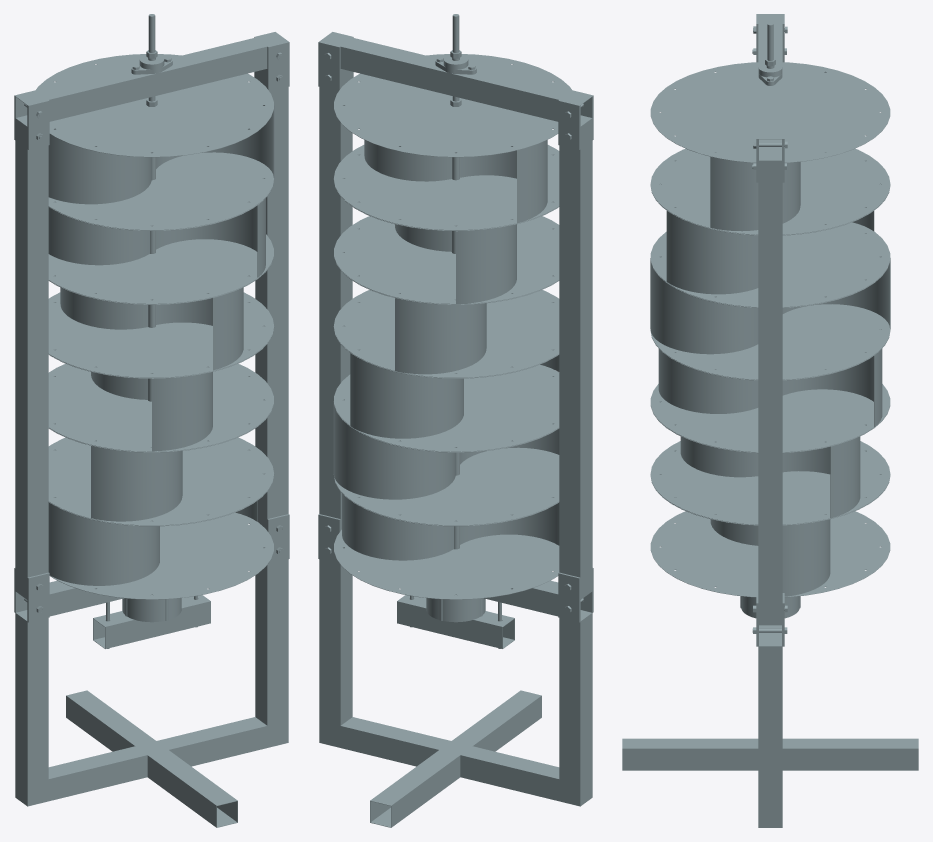
The model's file is Савониус многоэлементный.FBX.
3 renders of one model, left to right at view 1: azimuth 30°, elevation 25°; view 2: azimuth 150°, elevation 25°; view 3: azimuth 270°, elevation 25°, orthographic.
Parts seen in each view (by area): view 1: C0DA3F6DC30D1841D78857DBE5FFBBCAE4F21C9B|:|B8A4396250C5687B1 (×7), 87608CF17BA5F838D6425924F474B96C1249B9B9|:|B8A4396250C5687B1 (×13), 62E11468440A4AA8D424D3E9D94E90A74CFD7514|:|C906BBC760572095F, 95964264239DB902585279D215E8488E0D30D7ED|:|B8A4396250C5687B1 (×2), 62E11468440A4AA8D424D3E9D94E90A74CFD7514|:|62A847F87F404A138, 62E11468440A4AA8D424D3E9D94E90A74CFD7514|:|B8A4396250C5687B1, 106607472D9B93278FBDF17043DF52F506BEC7B4|:|B8A4396250C5687B1 (×4), 62E11468440A4AA8D424D3E9D94E90A74CFD7514|:|7325FF14D543F8139, 81A1F676CC38BD6EFCC5FBA0071F4175BFBD2D6C|:|B8A4396250C5687B1, 0CB1673DC6915E34E33ADCB3ED8ADB170B950B73|:|B8A4396250C5687B1; view 2: C0DA3F6DC30D1841D78857DBE5FFBBCAE4F21C9B|:|B8A4396250C5687B1 (×7), 87608CF17BA5F838D6425924F474B96C1249B9B9|:|B8A4396250C5687B1 (×16), 62E11468440A4AA8D424D3E9D94E90A74CFD7514|:|C906BBC760572095F, 95964264239DB902585279D215E8488E0D30D7ED|:|B8A4396250C5687B1 (×2), 62E11468440A4AA8D424D3E9D94E90A74CFD7514|:|62A847F87F404A138, 62E11468440A4AA8D424D3E9D94E90A74CFD7514|:|B8A4396250C5687B1, 106607472D9B93278FBDF17043DF52F506BEC7B4|:|B8A4396250C5687B1 (×4), 62E11468440A4AA8D424D3E9D94E90A74CFD7514|:|7325FF14D543F8139, 81A1F676CC38BD6EFCC5FBA0071F4175BFBD2D6C|:|B8A4396250C5687B1, 0CB1673DC6915E34E33ADCB3ED8ADB170B950B73|:|B8A4396250C5687B1; view 3: C0DA3F6DC30D1841D78857DBE5FFBBCAE4F21C9B|:|B8A4396250C5687B1 (×7), 87608CF17BA5F838D6425924F474B96C1249B9B9|:|B8A4396250C5687B1 (×14), 62E11468440A4AA8D424D3E9D94E90A74CFD7514|:|C906BBC760572095F, 95964264239DB902585279D215E8488E0D30D7ED|:|B8A4396250C5687B1, 62E11468440A4AA8D424D3E9D94E90A74CFD7514|:|B8A4396250C5687B1, 62E11468440A4AA8D424D3E9D94E90A74CFD7514|:|62A847F87F404A138, 81A1F676CC38BD6EFCC5FBA0071F4175BFBD2D6C|:|B8A4396250C5687B1.
Boxes of the visible parts, x1,y1,x2,y2 form: C0DA3F6DC30D1841D78857DBE5FFBBCAE4F21C9B|:|B8A4396250C5687B1 (×7): (35,54,274,599); 87608CF17BA5F838D6425924F474B96C1249B9B9|:|B8A4396250C5687B1 (×13): (48,105,274,585); 62E11468440A4AA8D424D3E9D94E90A74CFD7514|:|C906BBC760572095F: (15,547,288,827); 95964264239DB902585279D215E8488E0D30D7ED|:|B8A4396250C5687B1 (×2): (15,69,288,599); 62E11468440A4AA8D424D3E9D94E90A74CFD7514|:|62A847F87F404A138: (15,68,157,126); 62E11468440A4AA8D424D3E9D94E90A74CFD7514|:|B8A4396250C5687B1: (158,32,288,95); 106607472D9B93278FBDF17043DF52F506BEC7B4|:|B8A4396250C5687B1 (×4): (27,41,289,622); 62E11468440A4AA8D424D3E9D94E90A74CFD7514|:|7325FF14D543F8139: (93,595,210,648); 81A1F676CC38BD6EFCC5FBA0071F4175BFBD2D6C|:|B8A4396250C5687B1: (122,595,181,622); 0CB1673DC6915E34E33ADCB3ED8ADB170B950B73|:|B8A4396250C5687B1: (131,55,172,74); C0DA3F6DC30D1841D78857DBE5FFBBCAE4F21C9B|:|B8A4396250C5687B1 (×7): (333,54,572,599); 87608CF17BA5F838D6425924F474B96C1249B9B9|:|B8A4396250C5687B1 (×16): (333,140,559,560); 62E11468440A4AA8D424D3E9D94E90A74CFD7514|:|C906BBC760572095F: (319,547,592,827); 95964264239DB902585279D215E8488E0D30D7ED|:|B8A4396250C5687B1 (×2): (319,69,592,599); 62E11468440A4AA8D424D3E9D94E90A74CFD7514|:|62A847F87F404A138: (450,68,592,126); 62E11468440A4AA8D424D3E9D94E90A74CFD7514|:|B8A4396250C5687B1: (319,32,449,95); 106607472D9B93278FBDF17043DF52F506BEC7B4|:|B8A4396250C5687B1 (×4): (318,41,580,622); 62E11468440A4AA8D424D3E9D94E90A74CFD7514|:|7325FF14D543F8139: (397,595,514,648); 81A1F676CC38BD6EFCC5FBA0071F4175BFBD2D6C|:|B8A4396250C5687B1: (426,595,485,622); 0CB1673DC6915E34E33ADCB3ED8ADB170B950B73|:|B8A4396250C5687B1: (435,55,476,74); C0DA3F6DC30D1841D78857DBE5FFBBCAE4F21C9B|:|B8A4396250C5687B1 (×7): (650,62,890,597); 87608CF17BA5F838D6425924F474B96C1249B9B9|:|B8A4396250C5687B1 (×14): (650,156,890,596); 62E11468440A4AA8D424D3E9D94E90A74CFD7514|:|C906BBC760572095F: (622,625,918,827); 95964264239DB902585279D215E8488E0D30D7ED|:|B8A4396250C5687B1: (758,161,782,624); 62E11468440A4AA8D424D3E9D94E90A74CFD7514|:|B8A4396250C5687B1: (758,77,782,160); 62E11468440A4AA8D424D3E9D94E90A74CFD7514|:|62A847F87F404A138: (758,14,782,76); 81A1F676CC38BD6EFCC5FBA0071F4175BFBD2D6C|:|B8A4396250C5687B1: (740,596,800,618).
Size of the model in its own units: 740 by 2045 by 740.
